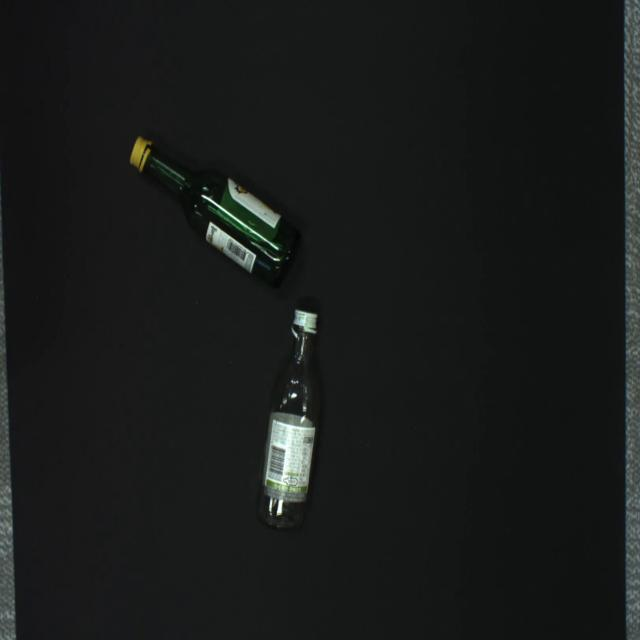soju-bottle: (130, 135, 298, 286), (255, 309, 322, 532)
